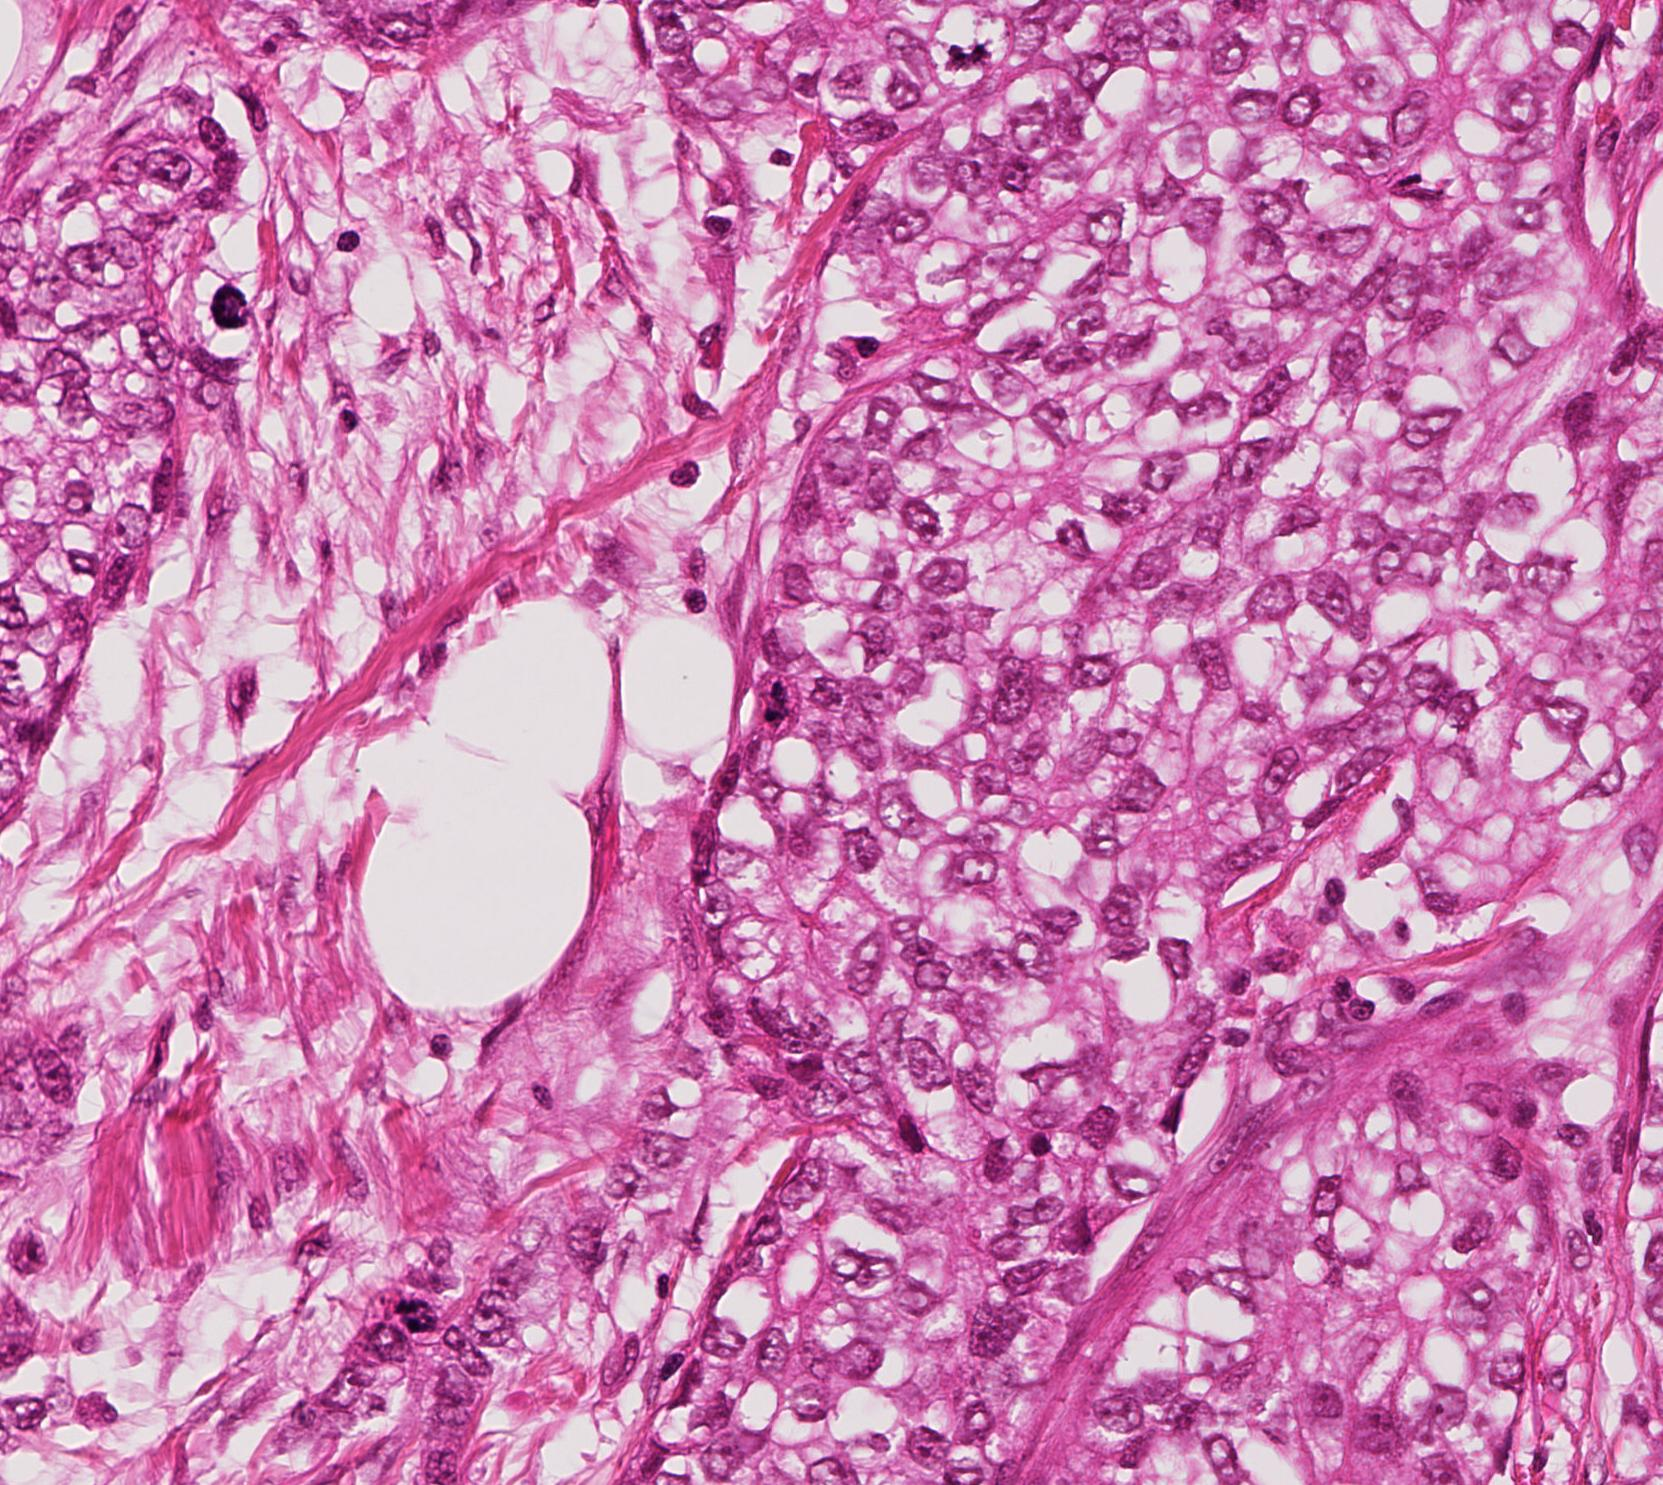mitosis: (938, 19, 998, 79), (380, 1283, 440, 1343), (201, 267, 261, 327)
